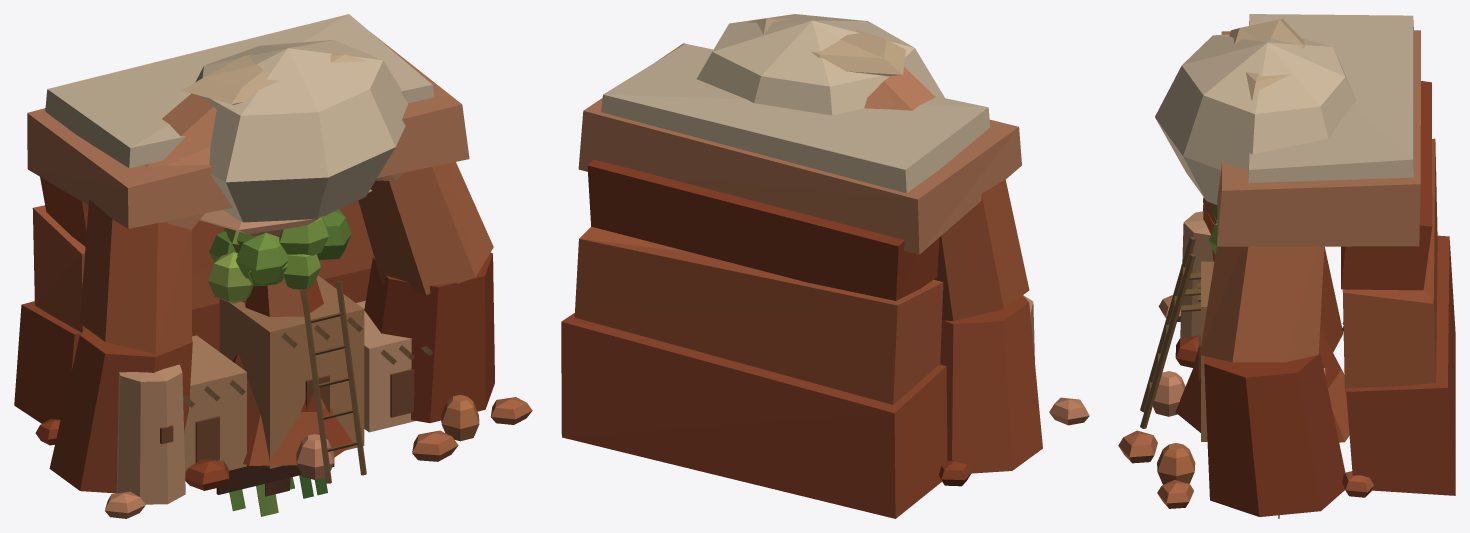
Rendered from canyon.glb.
3 views of the same model, side by side, from view 1: azimuth 30°, elevation 25°; view 2: azimuth 150°, elevation 25°; view 3: azimuth 270°, elevation 25° (orthographic).
Visible parts, largest first — view 1: canyon_cliff_dwelling_a, canyon_canyon_arch_a, canyon_balanced_rock_a, canyon_cottonwood_a, canyon_cottonwood_b, canyon_petroglyph_panel_a, canyon_hanging_garden_a, canyon_hanging_garden_b; view 2: canyon_cliff_dwelling_a, canyon_canyon_arch_a, canyon_balanced_rock_a; view 3: canyon_cliff_dwelling_a, canyon_canyon_arch_a, canyon_balanced_rock_a.
Part boxes in pixels (left/top/right/bottom): canyon_cliff_dwelling_a: left=14, top=14, right=479, bottom=504; canyon_canyon_arch_a: left=35, top=45, right=532, bottom=518; canyon_balanced_rock_a: left=185, top=40, right=458, bottom=490; canyon_cottonwood_a: left=208, top=230, right=320, bottom=303; canyon_cottonwood_b: left=224, top=209, right=351, bottom=285; canyon_petroglyph_panel_a: left=216, top=458, right=334, bottom=494; canyon_hanging_garden_a: left=232, top=477, right=327, bottom=514; canyon_hanging_garden_b: left=229, top=475, right=313, bottom=516; canyon_cliff_dwelling_a: left=561, top=43, right=1034, bottom=518; canyon_canyon_arch_a: left=748, top=18, right=1089, bottom=486; canyon_balanced_rock_a: left=697, top=14, right=944, bottom=115; canyon_cliff_dwelling_a: left=1140, top=14, right=1455, bottom=495; canyon_canyon_arch_a: left=1157, top=19, right=1374, bottom=516; canyon_balanced_rock_a: left=1118, top=34, right=1355, bottom=463.
Size of the model in its own units: 2.98 by 3.08 by 2.04.
